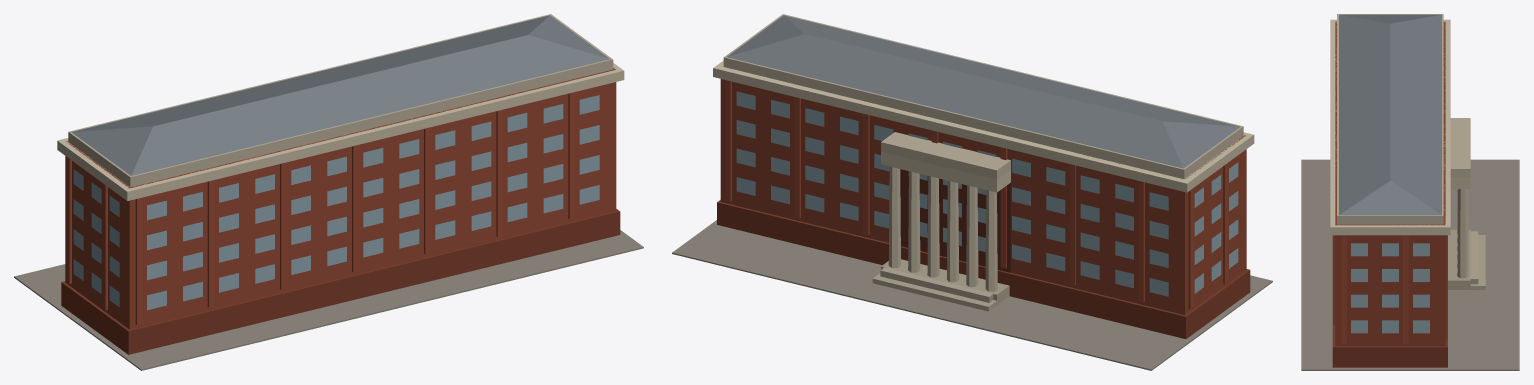
3 views of the same model, side by side, from view 1: azimuth 30°, elevation 25°; view 2: azimuth 150°, elevation 25°; view 3: azimuth 270°, elevation 25° (orthographic). The views are drawn at different scales.
Visible parts, largest first — view 1: queens-borough-hall-lod1; view 2: queens-borough-hall-lod1; view 3: queens-borough-hall-lod1.
Part boxes in pixels (bbox=[...]): queens-borough-hall-lod1: bbox=[14, 14, 643, 370]; queens-borough-hall-lod1: bbox=[672, 14, 1272, 370]; queens-borough-hall-lod1: bbox=[1301, 14, 1519, 370].
Size of the model in its own units: 114 by 41.4 by 50.01.
